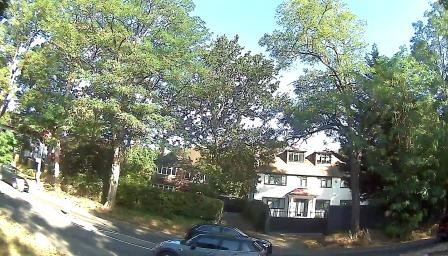Cars: (187, 206, 274, 250), (156, 229, 270, 256), (5, 157, 35, 197)
